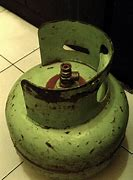gas_ijo: (5, 22, 130, 179)
